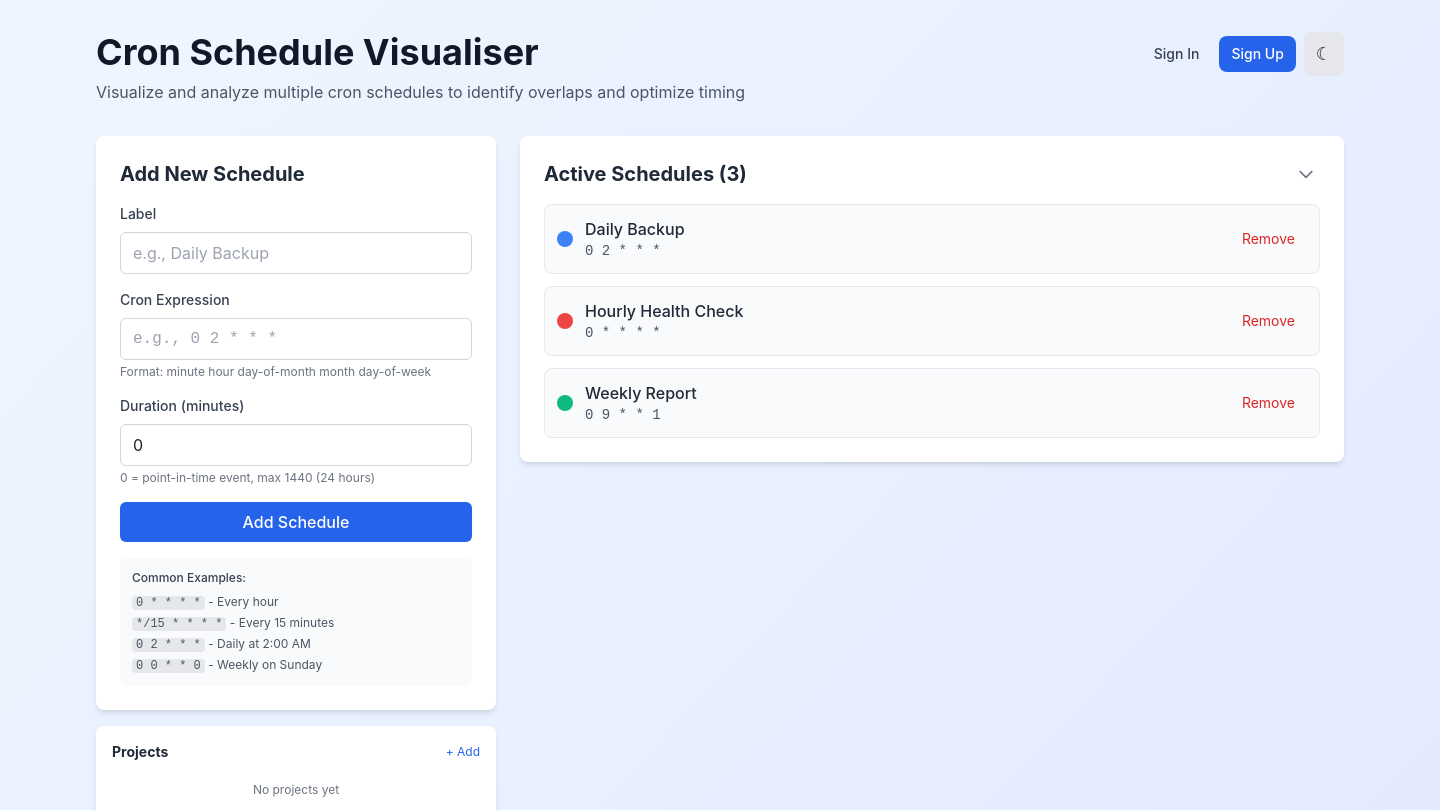
App Integration Tests › Removing Schedules › should remove all schedules
Click the 1st button "Remove" at {"x": 1268, "y": 239}, box [1230,225,1307,253]
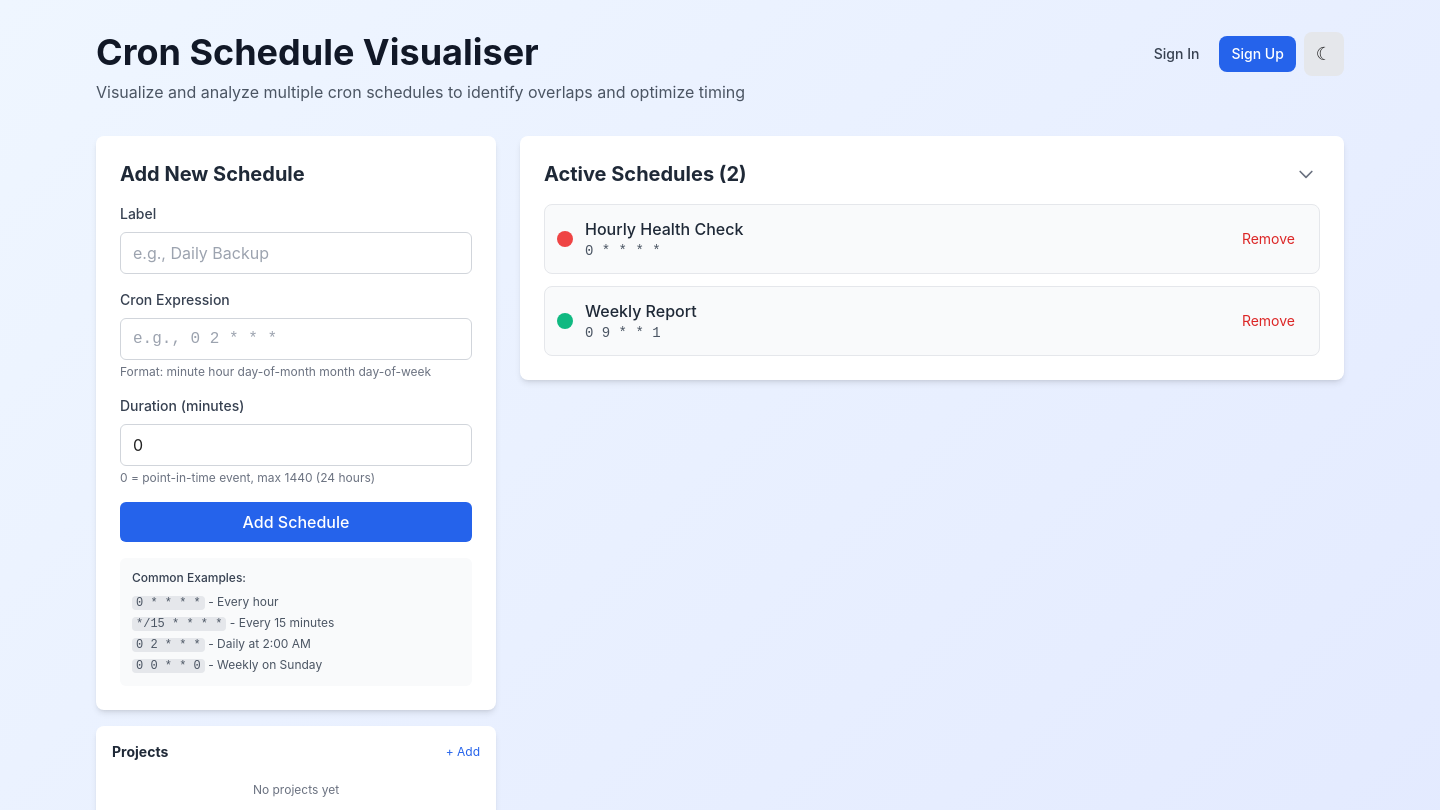
Click the 1st button "Remove" at {"x": 1268, "y": 239}, box [1230,225,1307,253]
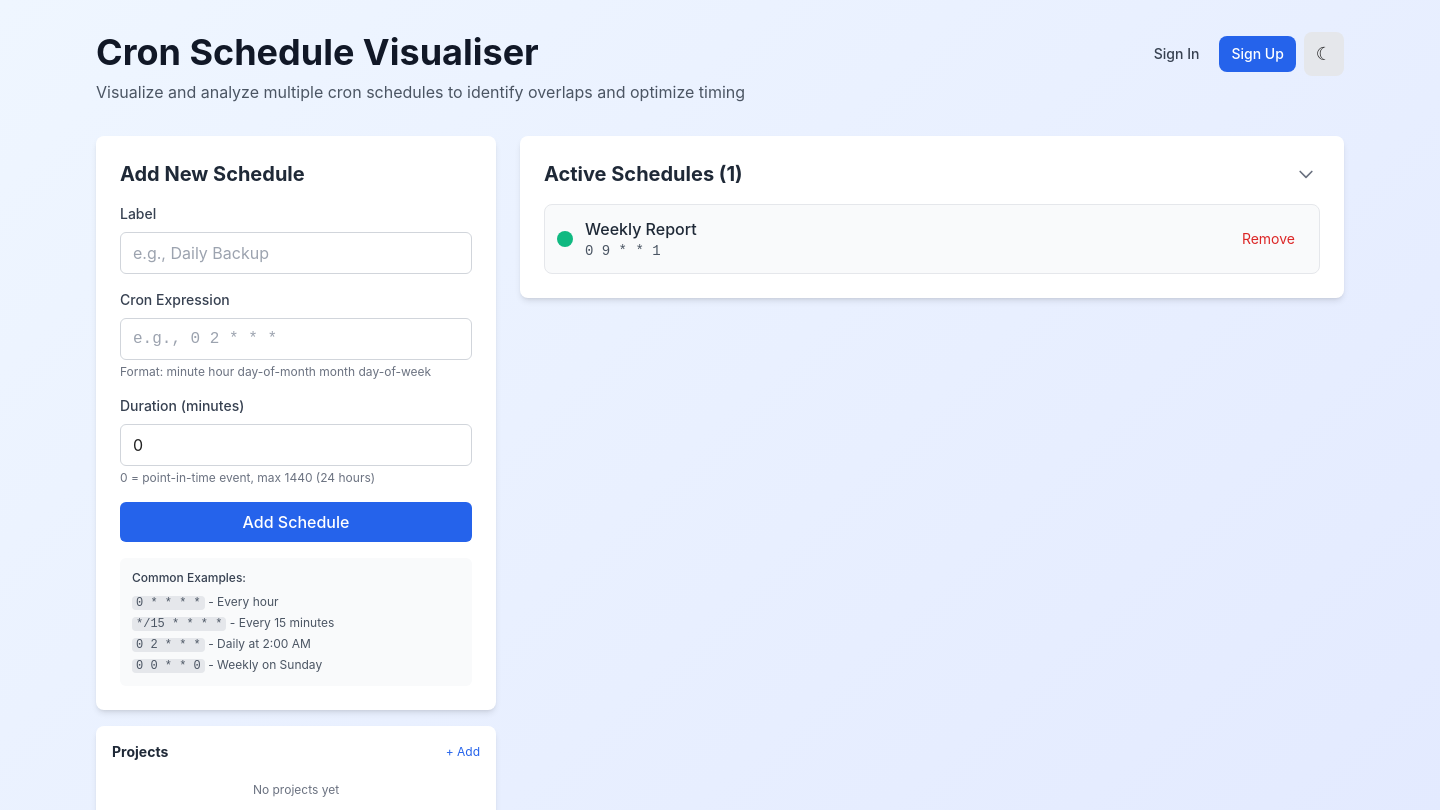
Click the button "Remove" at {"x": 1268, "y": 239}, box [1230,225,1307,253]
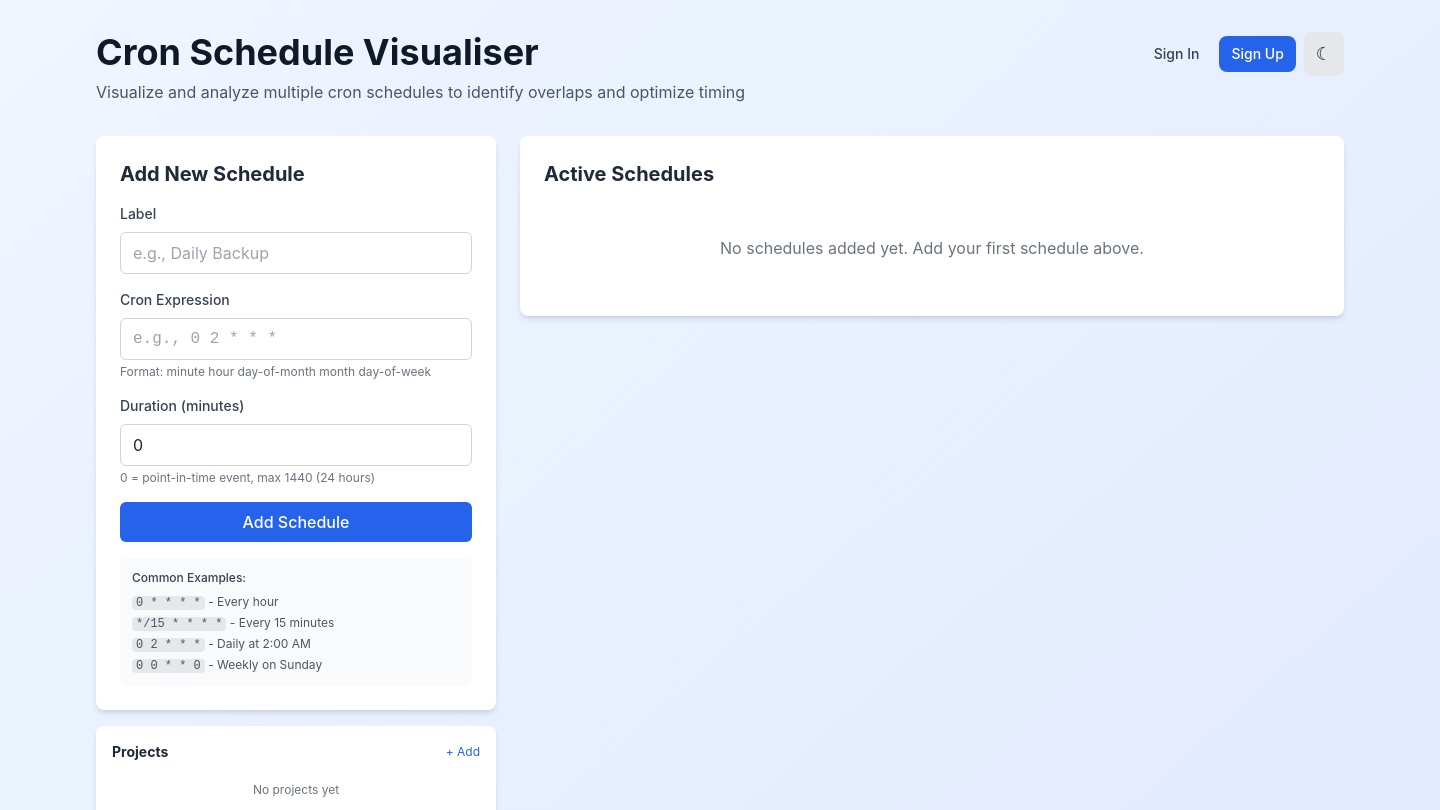
expect the text "No schedules added yet. Add your first schedule above." is shown: met, box [720,238,1144,258]
